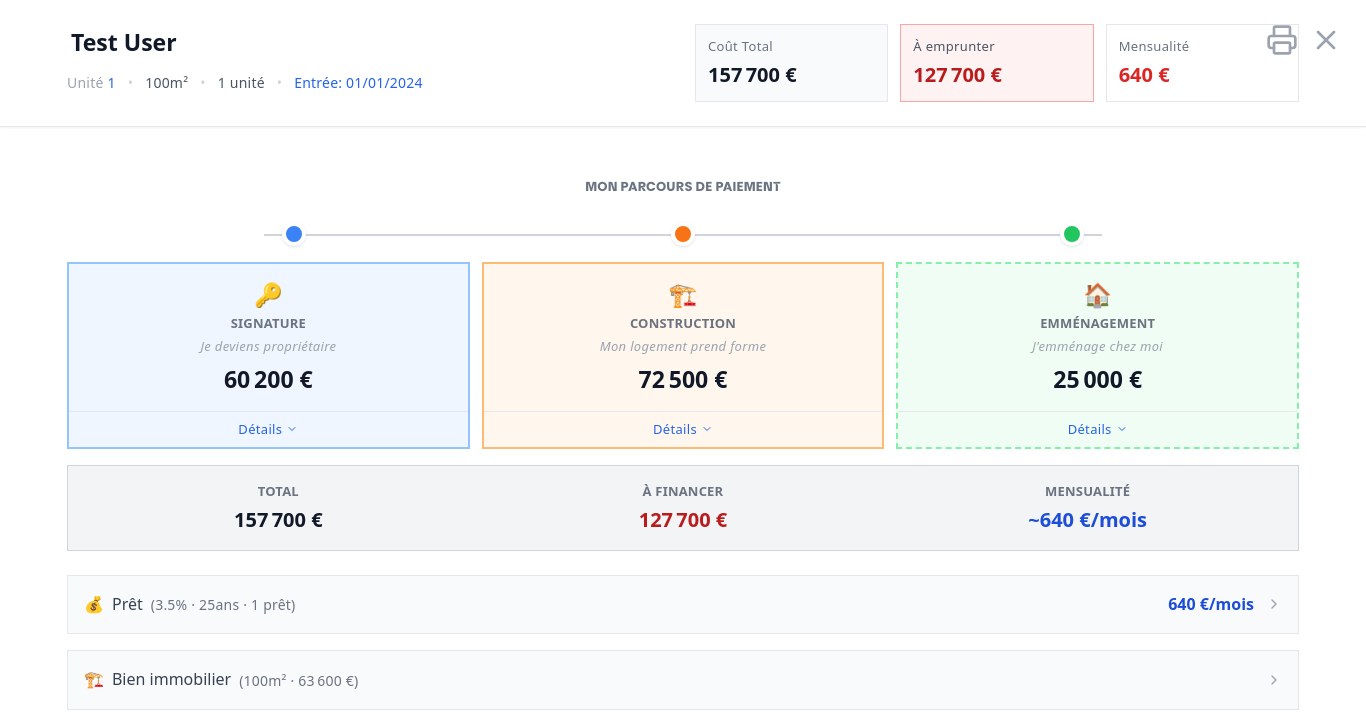
Test: ParticipantDetailModal Integration › should show loan section when clicked
Click the button "💰 Prêt (3.5% · 25ans · 1 prêt) 640 €/mois" at [127, 604], box [68,576,1298,633]
(page scrolled)
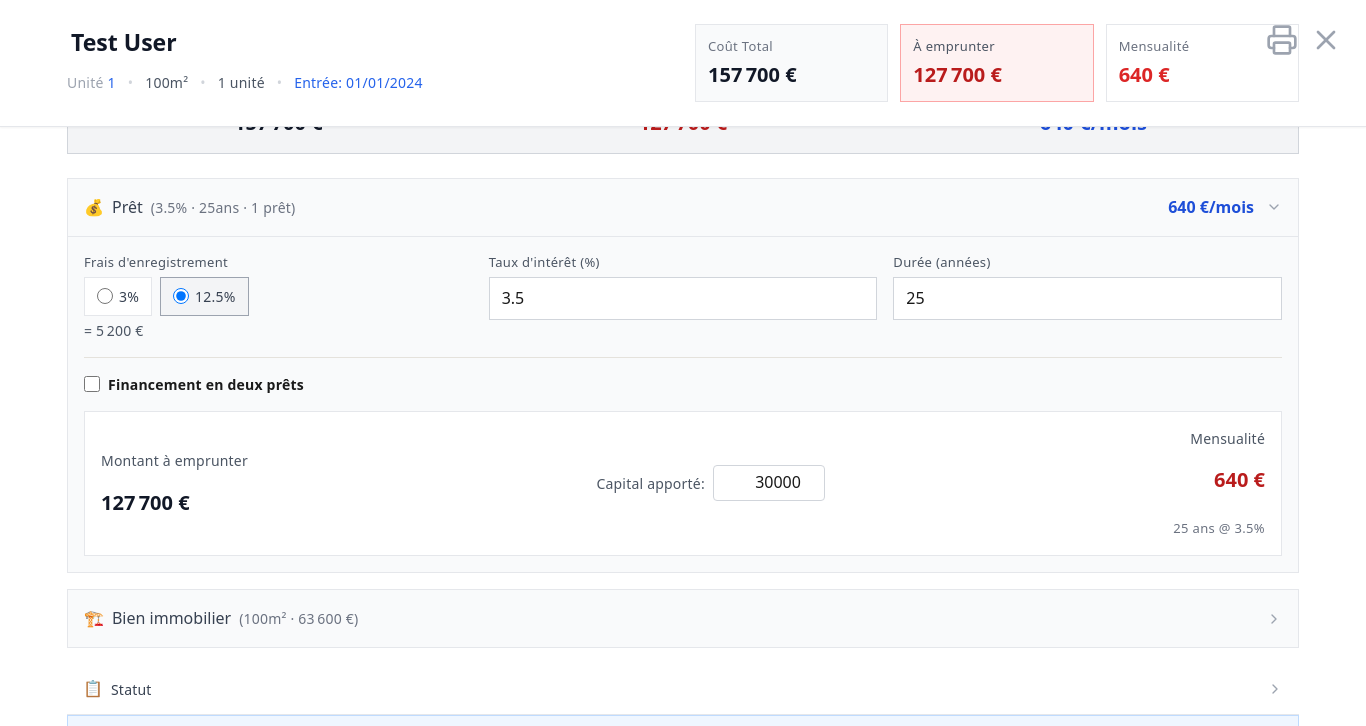
Result: the text "Frais d'enregistrement" is shown at [84,253,228,271]
Result: the text "Taux d'intérêt (%)" is shown at [489,253,600,271]
Result: the text "Financement en deux prêts" is shown at [108,374,304,395]
